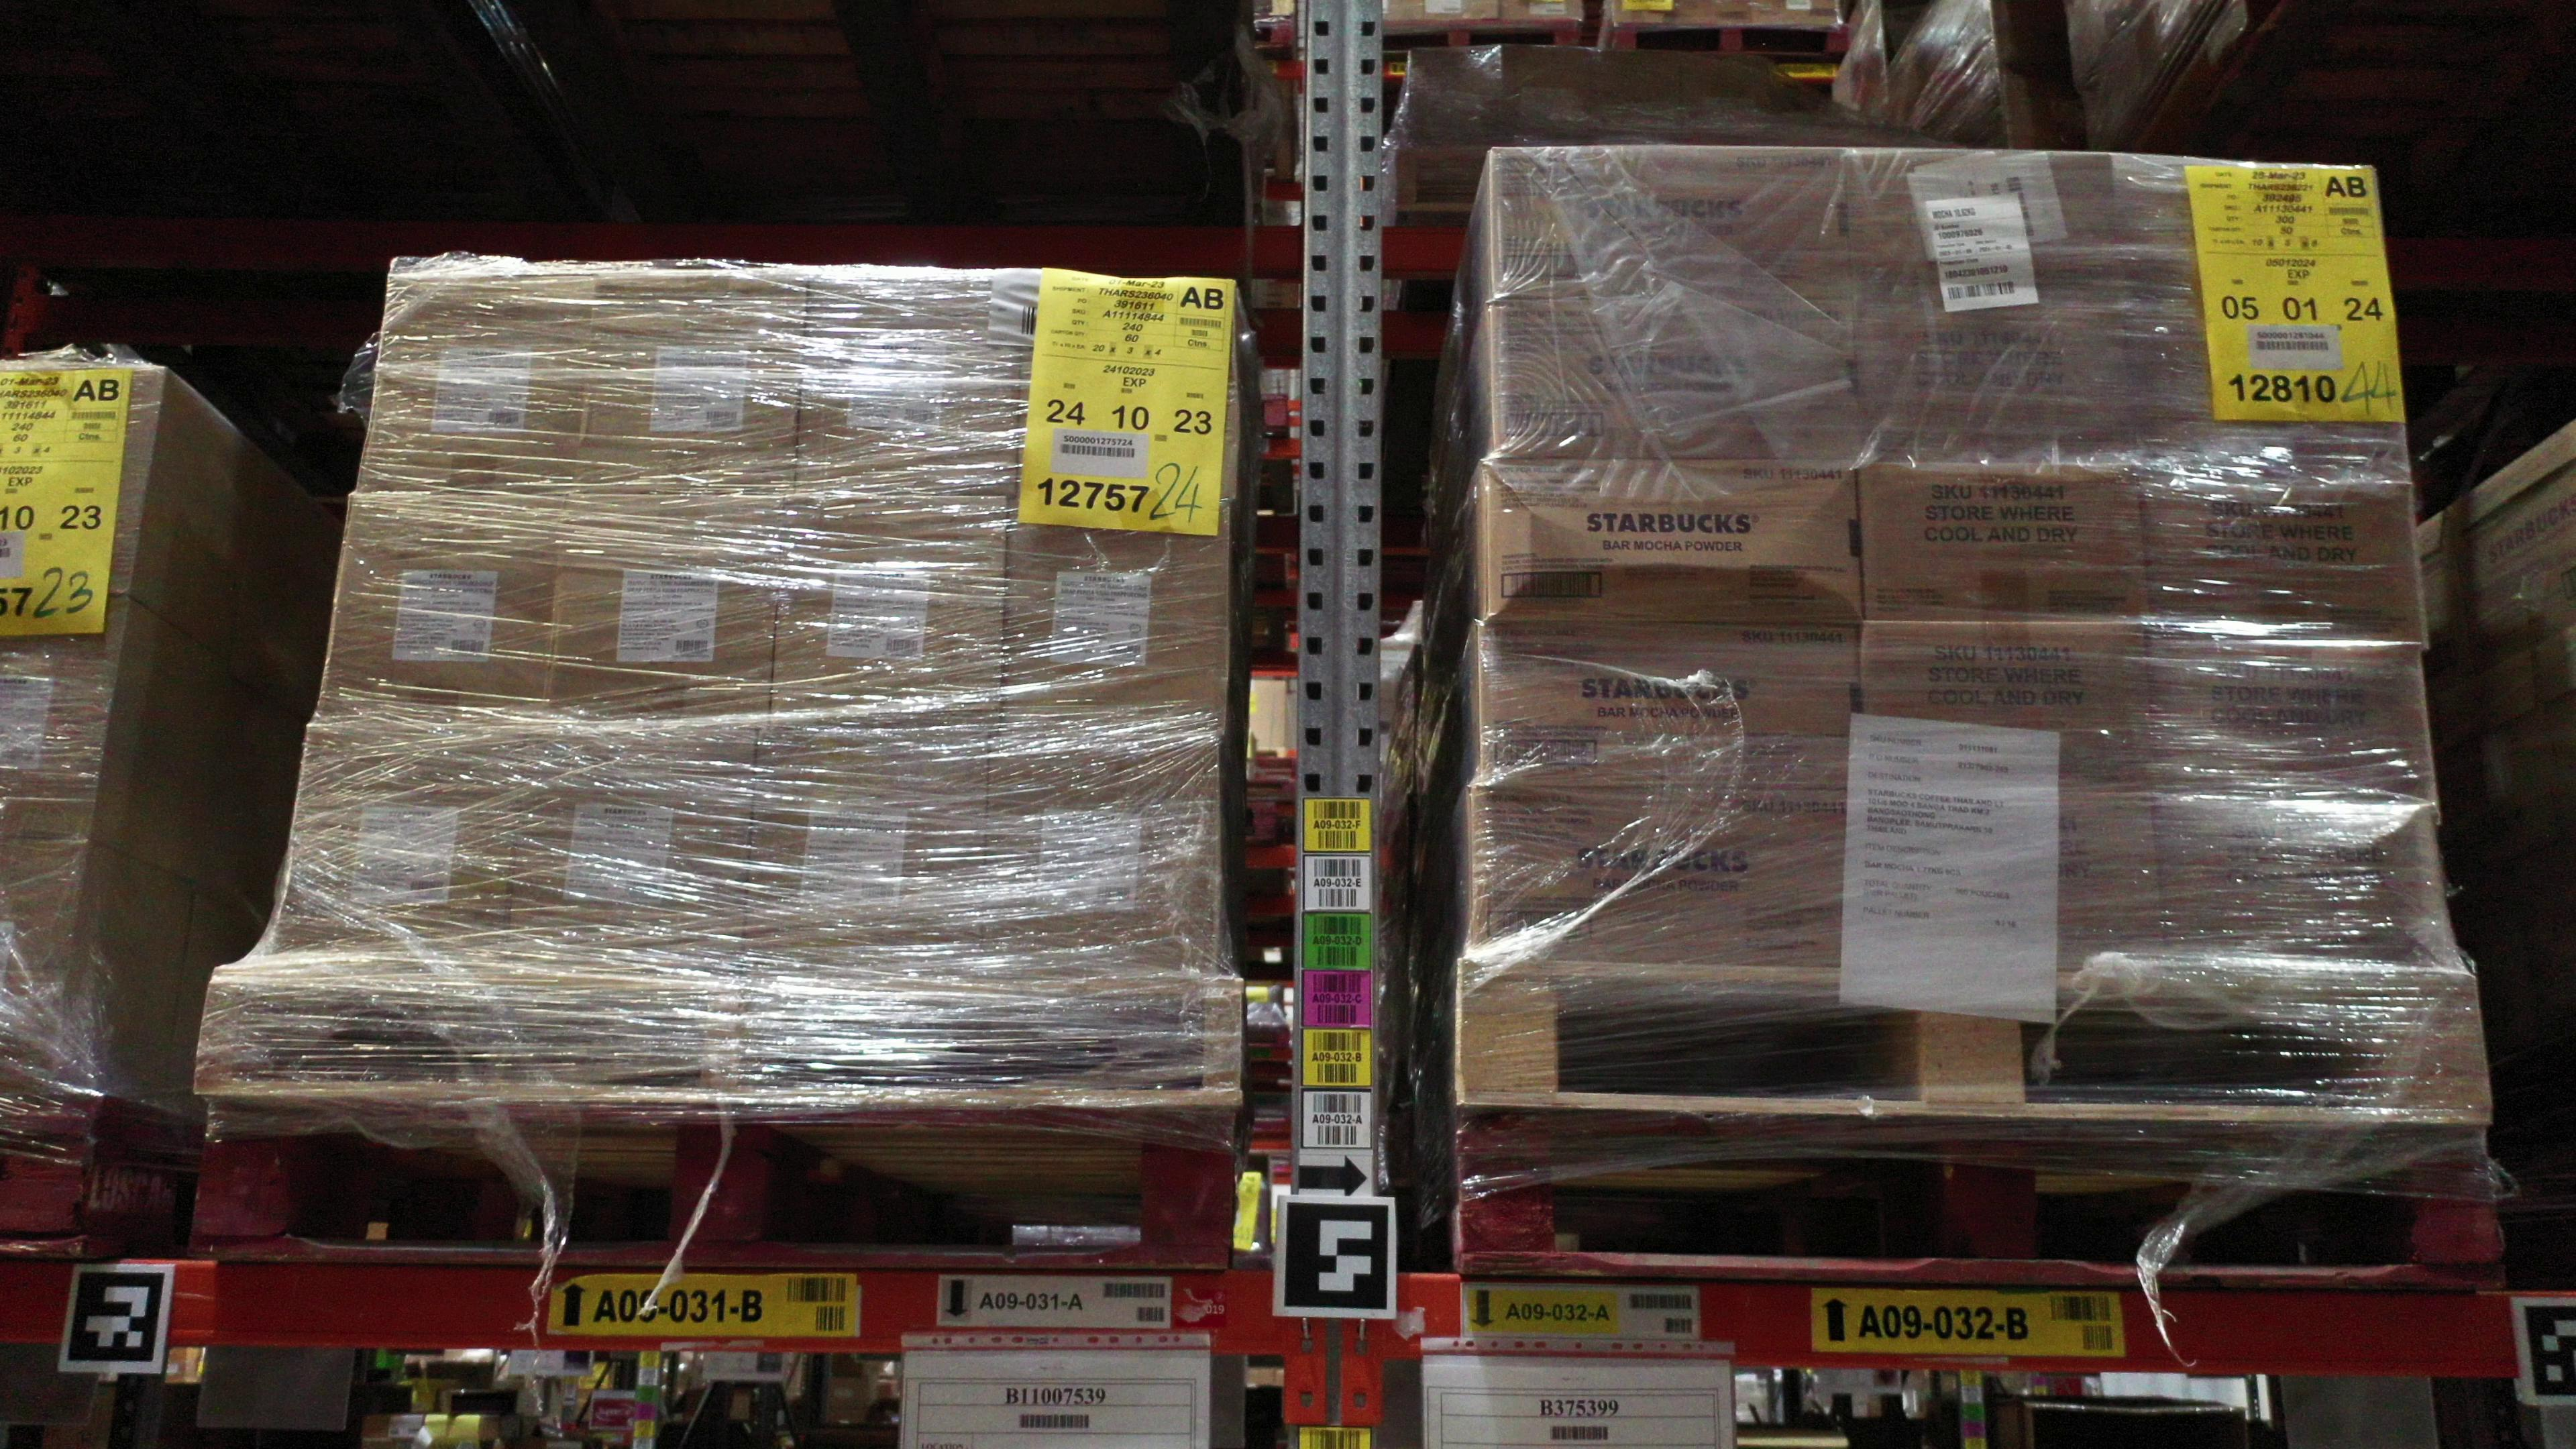-: (1472, 787, 1881, 977), (262, 718, 534, 975), (1476, 626, 1874, 798), (740, 727, 994, 994), (499, 729, 764, 982), (1483, 460, 1863, 633), (980, 734, 1221, 993), (761, 494, 1014, 738), (534, 497, 791, 736), (1486, 303, 1858, 465), (317, 492, 566, 734), (570, 260, 812, 508), (1484, 147, 1861, 306), (356, 255, 600, 499), (794, 265, 1042, 501), (1001, 497, 1230, 747), (2155, 794, 2465, 977), (1874, 789, 2173, 973), (2144, 460, 2429, 649), (2153, 621, 2434, 810), (1861, 621, 2155, 798), (1019, 271, 1231, 510), (1858, 460, 2153, 630), (2130, 315, 2413, 485), (2112, 152, 2390, 320), (1854, 306, 2135, 469), (1854, 150, 2121, 317), (0, 359, 170, 596), (0, 591, 134, 840), (0, 833, 94, 1099)
